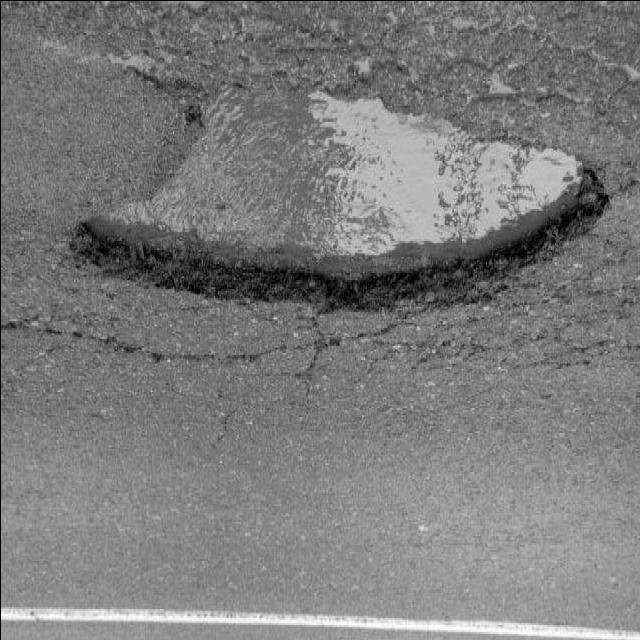jalan retak: (2, 290, 336, 425), (317, 302, 631, 412)
lubang: (69, 80, 612, 310)
